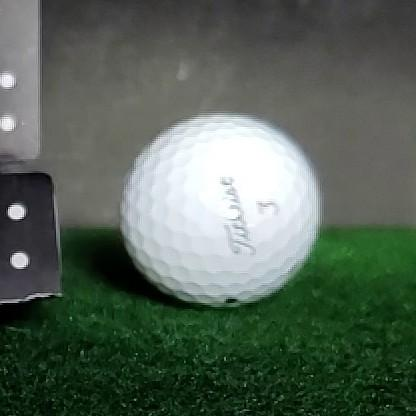golfball: (119, 114, 322, 307)
